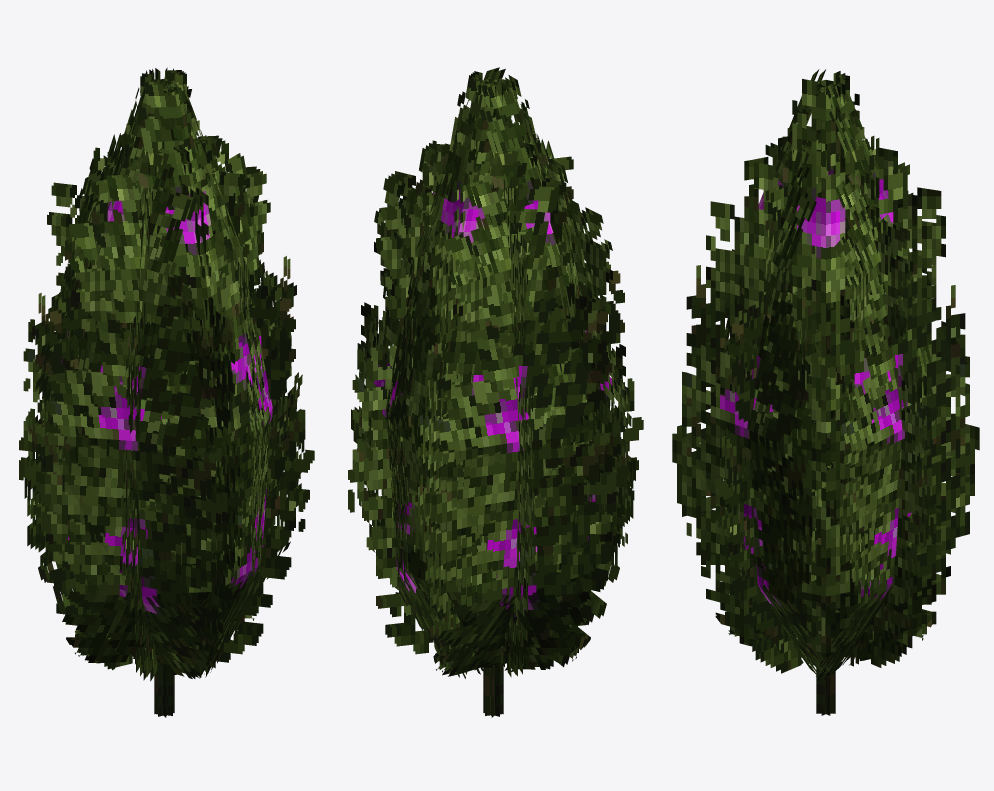
The model's file is bush05_spring6.glb.
3 renders of one model, left to right at view 1: azimuth 30°, elevation 25°; view 2: azimuth 150°, elevation 25°; view 3: azimuth 270°, elevation 25°, orthographic.
Visible parts, largest first — view 1: bush05; view 2: bush05; view 3: bush05.
Boxes of the visible parts, x1,y1,x2,y2 form: bush05: (19, 67, 314, 717); bush05: (348, 67, 643, 717); bush05: (672, 69, 979, 715).
Bounding box in the file's own units: 0.66 × 1.5 × 0.66.
1 material, 1 textured.
